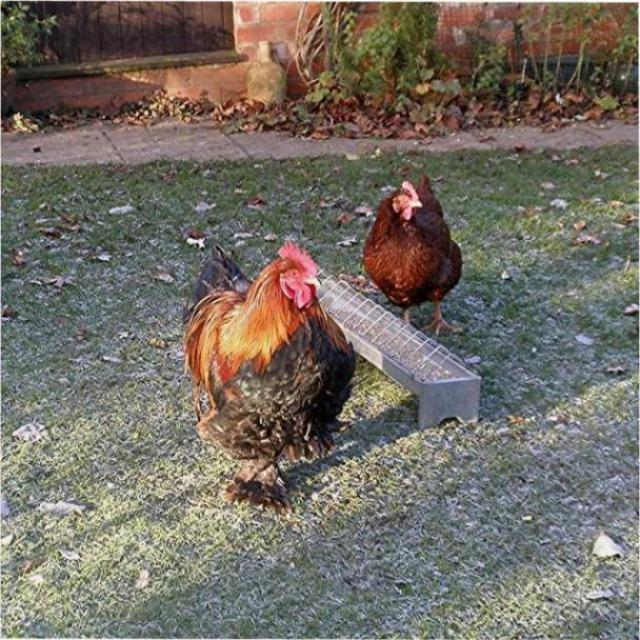Chicken: (180, 226, 362, 512), (362, 171, 463, 336)
